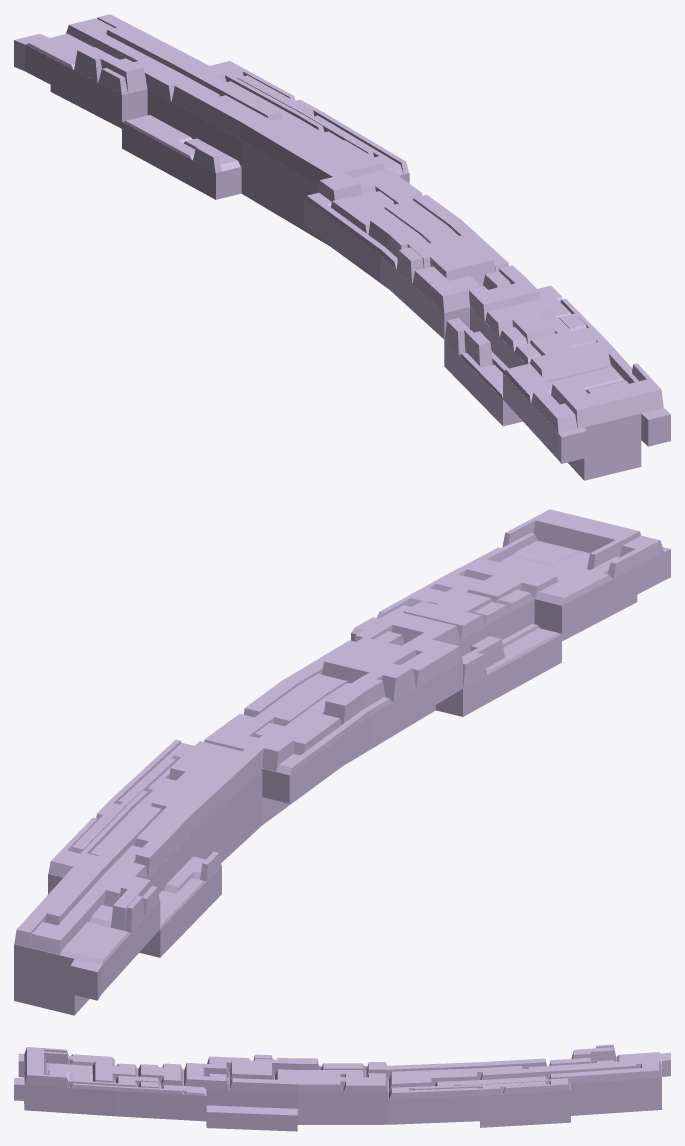
The model's file is ParedDrch.fbx.
3 views of the same model, one above another, from view 1: azimuth 30°, elevation 25°; view 2: azimuth 150°, elevation 25°; view 3: azimuth 270°, elevation 25° (orthographic). The views are drawn at different scales.
Parts seen in each view (by area): view 1: ParedNueva.002; view 2: ParedNueva.002; view 3: ParedNueva.002.
Boxes of the visible parts, x1,y1,x2,y2 form: ParedNueva.002: (14, 14, 670, 480); ParedNueva.002: (14, 509, 670, 1015); ParedNueva.002: (14, 1044, 670, 1131).
Bounding box in the file's own units: 14.63 × 6.5 × 86.5.
